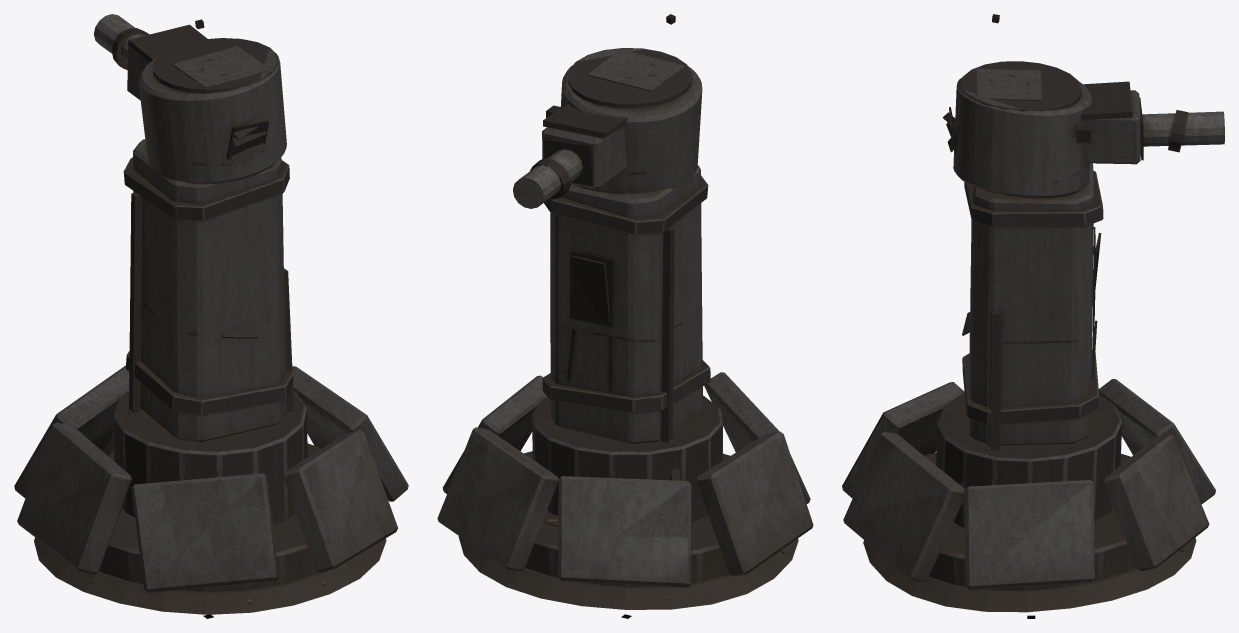
The model's file is chs_guard_wreck.fbx.
The picture shows the model from 3 angles, left to right: view 1: azimuth 30°, elevation 25°; view 2: azimuth 150°, elevation 25°; view 3: azimuth 270°, elevation 25°; orthographic projection. The views are drawn at different scales.
Visible parts, largest first — view 1: base_bar, turret_bar, barrel_bar; view 2: base_bar, turret_bar, barrel_bar; view 3: base_bar, turret_bar, barrel_bar.
Boxes of the visible parts, box(x1,y1,x2,y2) form: base_bar: box(14, 139, 408, 614); turret_bar: box(138, 19, 286, 184); barrel_bar: box(94, 14, 207, 100); base_bar: box(437, 165, 813, 609); turret_bar: box(546, 14, 702, 193); barrel_bar: box(513, 104, 627, 208); base_bar: box(842, 163, 1215, 612); turret_bar: box(942, 14, 1091, 198); barrel_bar: box(1081, 81, 1224, 164).
Bounding box in the file's own units: 899 × 1604 × 945.
2 materials, 2 textured.
